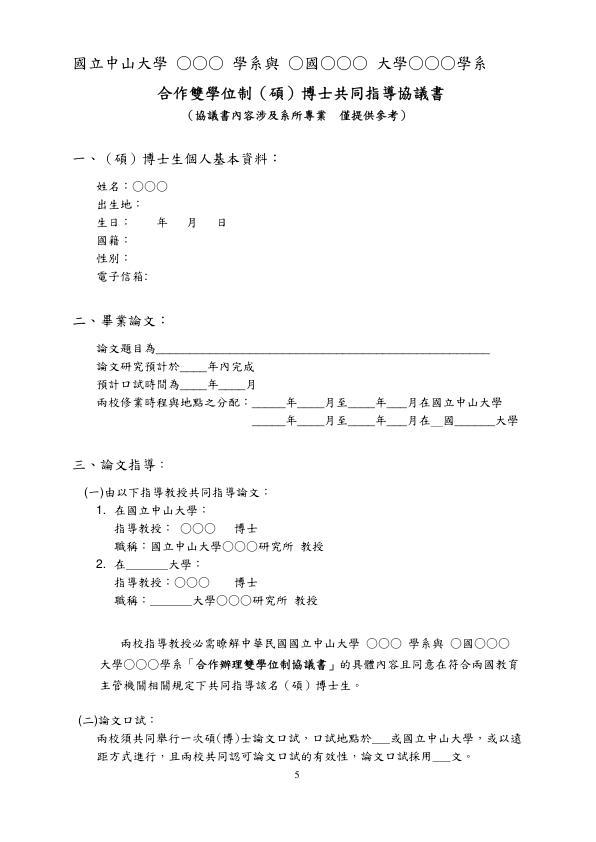input: (158, 340, 492, 357), (454, 412, 493, 434), (150, 591, 189, 612), (125, 558, 165, 574), (251, 414, 284, 430), (183, 356, 207, 375), (182, 376, 207, 394), (222, 374, 243, 394), (348, 393, 369, 413), (299, 394, 321, 412), (388, 390, 406, 412), (297, 417, 322, 431), (254, 399, 283, 411), (351, 418, 372, 434), (375, 726, 391, 747), (431, 412, 441, 432), (389, 417, 402, 432)
text: (94, 635, 522, 696), (94, 504, 328, 554), (70, 51, 491, 75), (155, 83, 447, 103), (91, 749, 433, 766), (182, 106, 412, 126), (68, 149, 282, 170), (93, 732, 373, 746), (80, 484, 271, 502), (95, 394, 250, 413), (194, 591, 320, 612), (392, 728, 523, 747), (68, 456, 166, 475), (69, 313, 173, 330), (113, 576, 258, 588), (408, 394, 507, 411), (94, 176, 171, 196), (94, 376, 179, 392), (74, 711, 157, 727), (95, 359, 179, 374), (92, 269, 152, 286), (93, 341, 155, 357), (92, 195, 144, 211), (90, 213, 135, 230), (208, 358, 256, 373), (92, 251, 133, 267), (109, 592, 148, 607), (95, 234, 133, 249), (168, 556, 203, 570), (495, 414, 522, 432), (407, 414, 430, 433), (91, 558, 124, 571), (326, 414, 348, 433), (324, 394, 347, 411), (451, 751, 475, 764), (153, 214, 169, 231), (215, 214, 228, 232), (375, 414, 386, 433), (443, 414, 454, 433), (185, 214, 197, 231), (286, 393, 297, 411), (208, 377, 219, 394), (247, 376, 258, 393), (374, 394, 385, 410), (287, 414, 296, 430)
